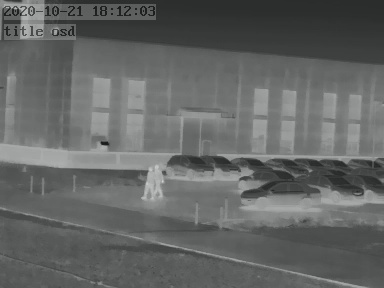person: (141, 166, 154, 199), (154, 165, 164, 198)
vehicle: (240, 183, 320, 208), (307, 170, 364, 200), (163, 152, 212, 179), (238, 170, 296, 187), (204, 153, 243, 177), (354, 173, 384, 203), (232, 155, 271, 174), (263, 156, 297, 172), (347, 156, 378, 170), (295, 156, 324, 170), (317, 157, 347, 170)
